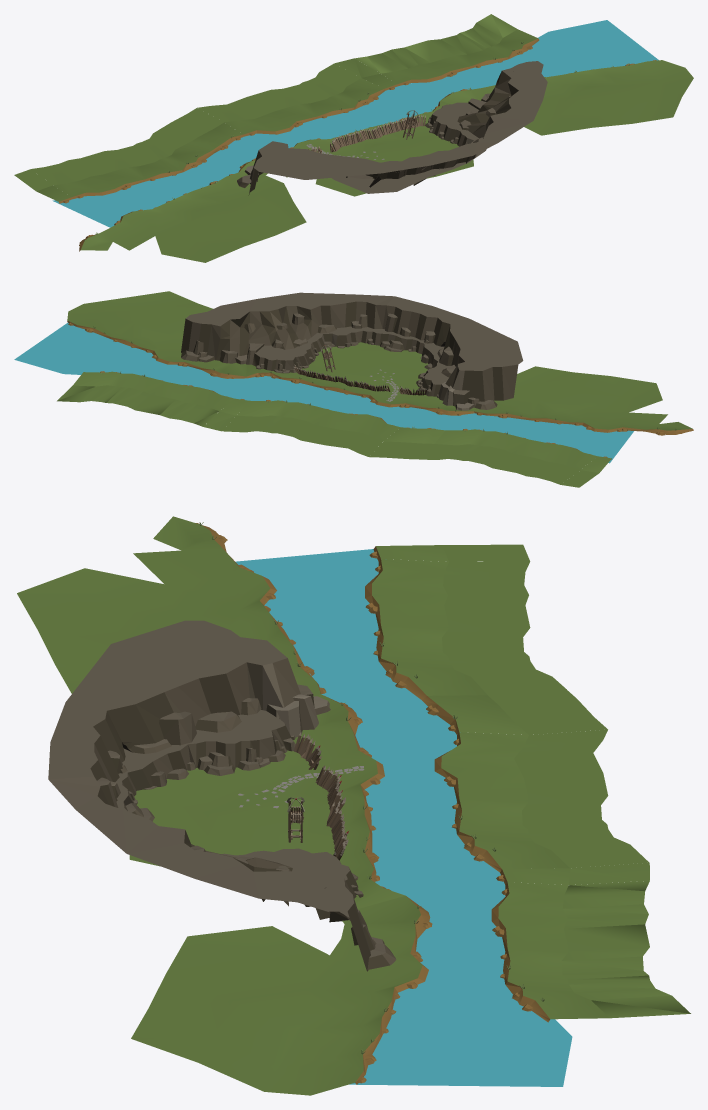
The model's file is Level1.FBX.
3 views of the same model, one above another, from view 1: azimuth 30°, elevation 25°; view 2: azimuth 150°, elevation 25°; view 3: azimuth 270°, elevation 25° (orthographic). The views are drawn at different scales.
Parts seen in each view (by area): view 1: _River, _BankLeft2, _RocksUp, _BankLeft3, _BankRight, _BankRight3, _BankRight2, _BankLeft, _RocksDown, _Fence; view 2: _RocksUp, _River, _BankLeft2, _BankRight, _BankLeft3, _BankLeft, _BankRight3, _BankRight2, _RocksDown, _Fence; view 3: _River, _RocksUp, _BankLeft3, _BankRight, _BankRight3, _BankRight2, _BankLeft2, _BankLeft, _RocksDown, _Fence.
Boxes of the visible parts, left/top/right/bottom form: _River: left=52, top=20, right=658, bottom=227; _BankLeft2: left=79, top=172, right=306, bottom=262; _RocksUp: left=237, top=61, right=547, bottom=195; _BankLeft3: left=440, top=60, right=693, bottom=135; _BankRight: left=164, top=63, right=385, bottom=152; _BankRight3: left=14, top=127, right=214, bottom=203; _BankRight2: left=334, top=14, right=539, bottom=90; _BankLeft: left=238, top=101, right=473, bottom=196; _RocksDown: left=332, top=102, right=486, bottom=193; _Fence: left=308, top=114, right=425, bottom=153; _RocksUp: left=181, top=292, right=523, bottom=410; _River: left=14, top=323, right=633, bottom=463; _BankLeft2: left=471, top=366, right=693, bottom=435; _BankRight: left=222, top=400, right=445, bottom=459; _BankLeft3: left=67, top=291, right=246, bottom=378; _BankLeft: left=246, top=342, right=474, bottom=415; _BankRight3: left=420, top=429, right=611, bottom=487; _BankRight2: left=57, top=371, right=248, bottom=431; _RocksDown: left=252, top=326, right=450, bottom=397; _Fence: left=293, top=364, right=426, bottom=395; _River: left=235, top=549, right=572, bottom=1086; _RocksUp: left=48, top=620, right=396, bottom=971; _BankLeft3: left=131, top=895, right=432, bottom=1095; _BankRight: left=422, top=689, right=648, bottom=872; _BankRight3: left=365, top=544, right=566, bottom=699; _BankRight2: left=491, top=862, right=690, bottom=1022; _BankLeft2: left=17, top=516, right=326, bottom=696; _BankLeft: left=129, top=694, right=405, bottom=908; _RocksDown: left=115, top=710, right=363, bottom=898; _Fence: left=294, top=732, right=348, bottom=860.
Size of the model in its own units: 348 by 26.56 by 172.
